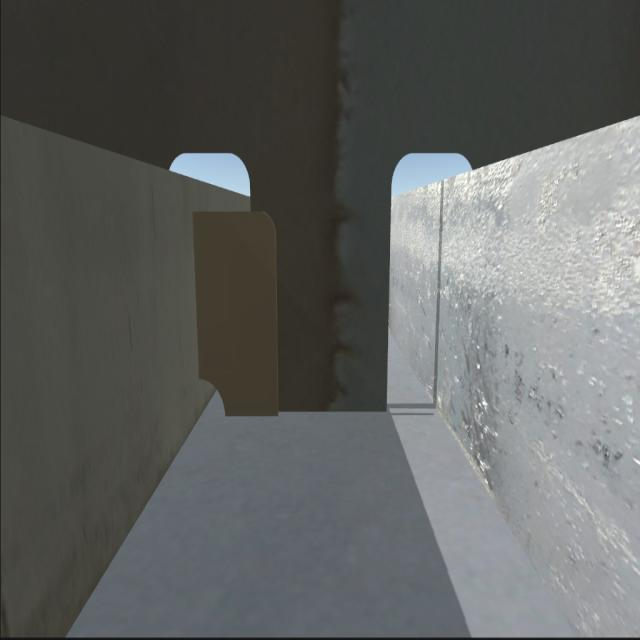fillet_hole: (192, 374, 224, 414)
fillet_yong_jeop_jang: (226, 412, 387, 418)
longi_yong_jeop_jang: (191, 218, 202, 377)
plate_CP05: (193, 215, 278, 414)
